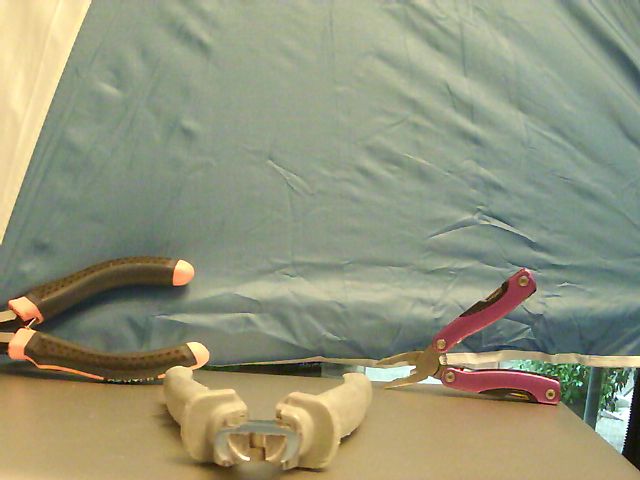pliers: (372, 266, 564, 405), (158, 366, 375, 478)
